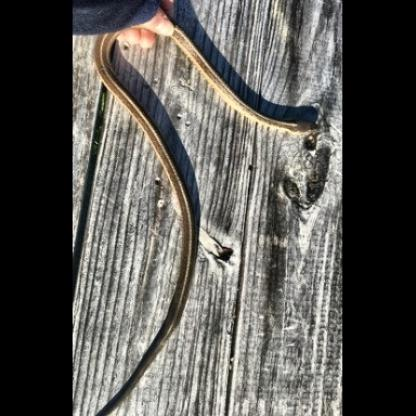Snake: (69, 14, 322, 404)
